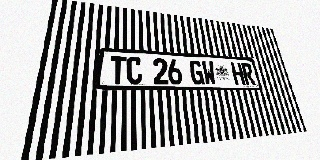2: (153, 58, 169, 84)
6: (167, 59, 183, 85)
C: (127, 56, 142, 84)
G: (189, 60, 205, 85)
H: (230, 62, 246, 85)
R: (241, 63, 256, 85)
T: (109, 56, 126, 84)
W: (201, 61, 217, 85)
